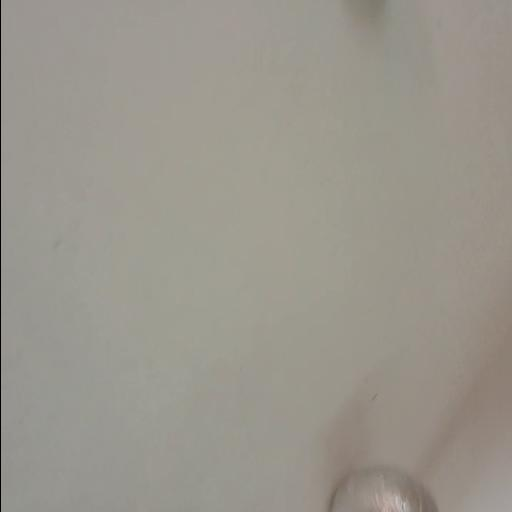alive: (332, 464, 440, 511)
